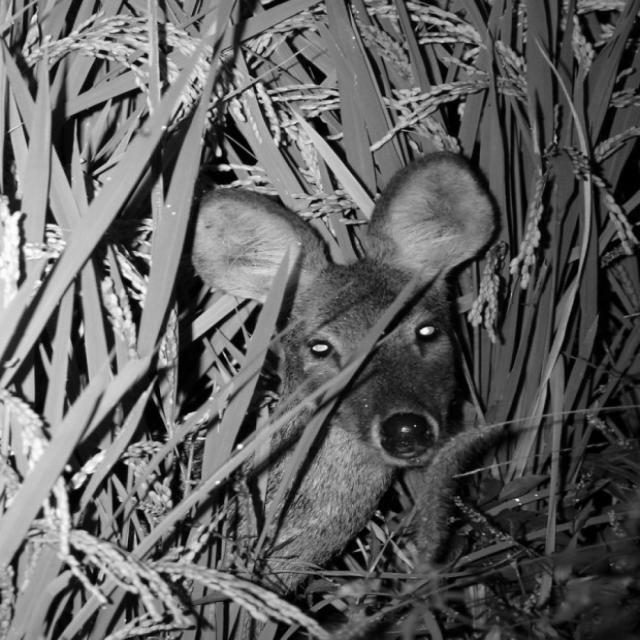Deer: (136, 152, 508, 628)
